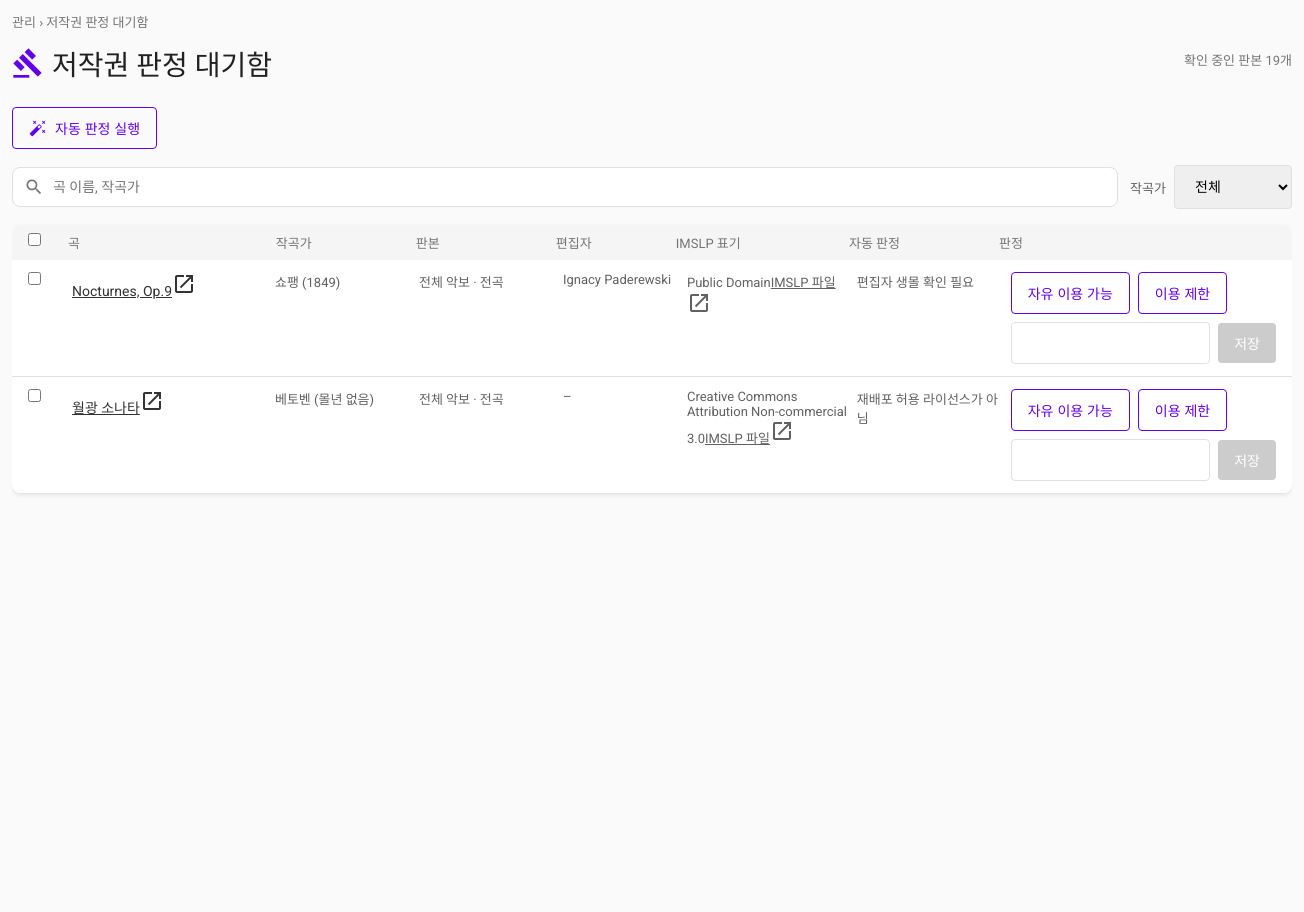
Test: CopyrightPendingPage — 일괄 판정 › 전체 선택 체크박스는 현재 페이지 전부를 고른다
Click the checkbox named "전체 선택" at point(34, 240), box [28,233,41,246]
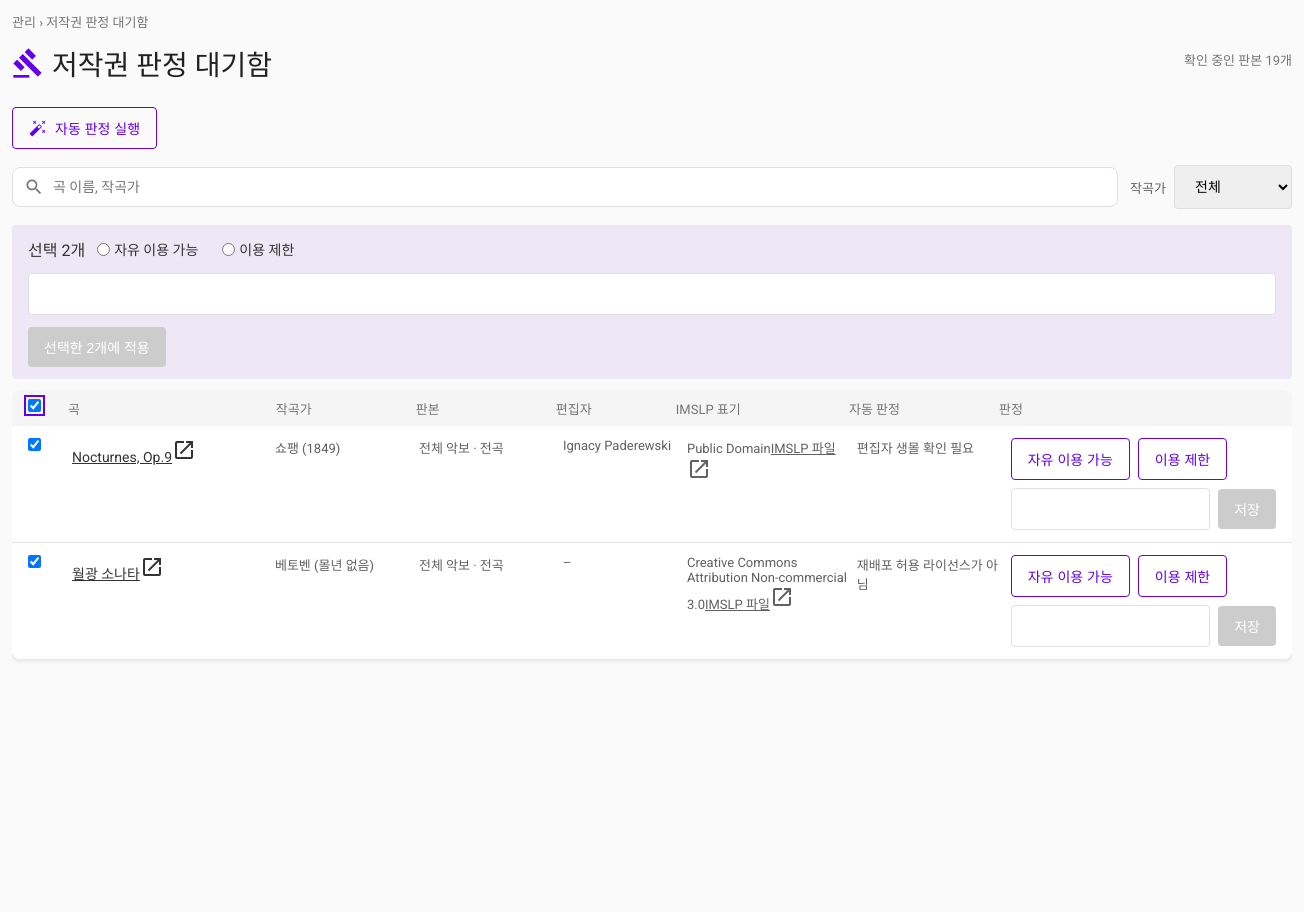
Expected: the text "선택 2개" is shown, [28,237,85,261]
Expected: the checkbox named "Nocturnes, Op.9 선택" is checked, [28,438,41,451]
Expected: the checkbox named "월광 소나타 선택" is checked, [28,555,41,568]
